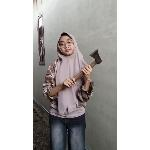Kapak: (69, 44, 105, 84)
